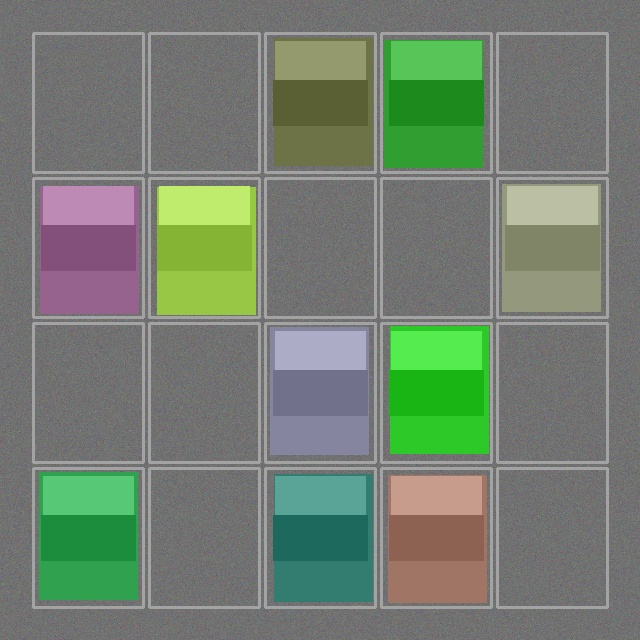space-empty: (35, 35, 141, 170), (151, 35, 257, 170), (499, 35, 605, 170), (267, 180, 373, 315), (383, 180, 489, 315), (35, 325, 141, 460), (151, 325, 257, 460), (499, 325, 605, 460), (151, 470, 257, 605), (499, 470, 605, 605)
space-occupied: (267, 35, 373, 170), (383, 35, 489, 170), (35, 180, 141, 315), (151, 180, 257, 315), (499, 180, 605, 315), (267, 325, 373, 460), (383, 325, 489, 460), (35, 470, 141, 605), (267, 470, 373, 605), (383, 470, 489, 605)
